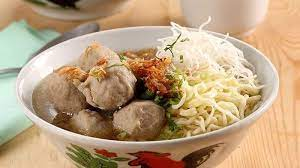bakso: (41, 39, 185, 158)
